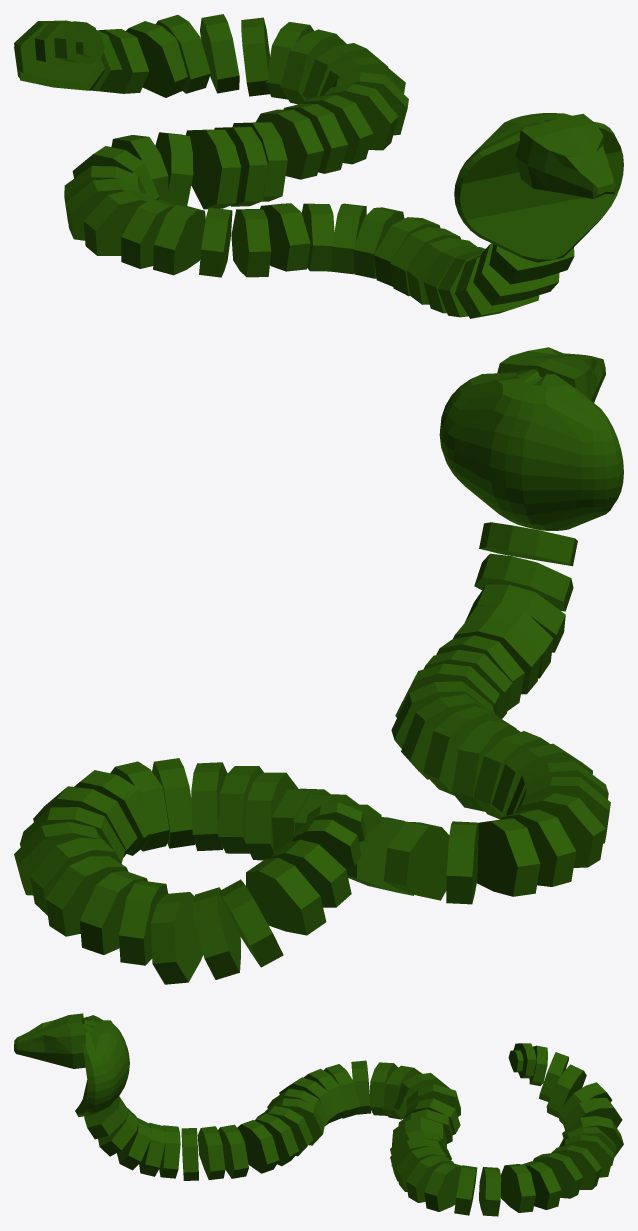
Rendered from Snake.fbx.
3 views of the same model, one above another, from view 1: azimuth 30°, elevation 25°; view 2: azimuth 150°, elevation 25°; view 3: azimuth 270°, elevation 25° (orthographic). The views are drawn at different scales.
Visible parts, largest first — view 1: Sphere, Cube, Cube.019, Cube.015, Cube.040, Cube.022, Cube.017, Cube.012, Cube.013, Cube.042, Cube.016, Cube.020 (+35 smaller); view 2: Sphere, Cube.050, Cube.030, Cube.023, Cube.046, Cube.042, Cube.041, Cube.045, Cube.005, Cube, Cube.006, Cube.018 (+33 smaller); view 3: Sphere, Cube, Cube.009, Cube.037, Cube.025, Cube.007, Cube.008, Cube.036, Cube.043, Cube.010, Cube.006, Cube.050 (+35 smaller).
Part boxes in pixels (x1=…): Sphere: x1=454, y1=113, x2=623, y2=262; Cube: x1=515, y1=113, x2=615, y2=198; Cube.019: x1=186, y1=129, x2=241, y2=209; Cube.015: x1=153, y1=205, x2=205, y2=275; Cube.040: x1=126, y1=21, x2=187, y2=97; Cube.022: x1=256, y1=109, x2=324, y2=179; Cube.017: x1=83, y1=190, x2=152, y2=255; Cube.012: x1=260, y1=203, x2=310, y2=271; Cube.013: x1=231, y1=209, x2=271, y2=277; Cube.042: x1=200, y1=14, x2=239, y2=93; Cube.016: x1=121, y1=199, x2=175, y2=268; Cube.020: x1=214, y1=127, x2=267, y2=206; Sphere: x1=439, y1=369, x2=623, y2=530; Cube.050: x1=246, y1=857, x2=326, y2=935; Cube.030: x1=477, y1=818, x2=540, y2=896; Cube.023: x1=384, y1=821, x2=449, y2=900; Cube.046: x1=150, y1=892, x2=203, y2=984; Cube.042: x1=45, y1=856, x2=128, y2=936; Cube.041: x1=79, y1=871, x2=147, y2=954; Cube.045: x1=192, y1=887, x2=240, y2=979; Cube.005: x1=474, y1=553, x2=573, y2=611; Cube: x1=497, y1=347, x2=605, y2=402; Cube.006: x1=479, y1=522, x2=577, y2=566; Cube.018: x1=500, y1=809, x2=576, y2=886; Sphere: x1=75, y1=1015, x2=129, y2=1116; Cube: x1=14, y1=1013, x2=85, y2=1068; Cube.009: x1=237, y1=1120, x2=279, y2=1173; Cube.037: x1=501, y1=1164, x2=535, y2=1212; Cube.025: x1=424, y1=1162, x2=461, y2=1211; Cube.007: x1=197, y1=1126, x2=225, y2=1179; Cube.008: x1=218, y1=1124, x2=248, y2=1178; Cube.036: x1=522, y1=1161, x2=561, y2=1209; Cube.043: x1=533, y1=1152, x2=583, y2=1198; Cube.010: x1=254, y1=1113, x2=298, y2=1166; Cube.006: x1=84, y1=1096, x2=128, y2=1139; Cube.050: x1=546, y1=1064, x2=586, y2=1117.
Bounding box in the file's own units: 1178 × 708 × 2351.
